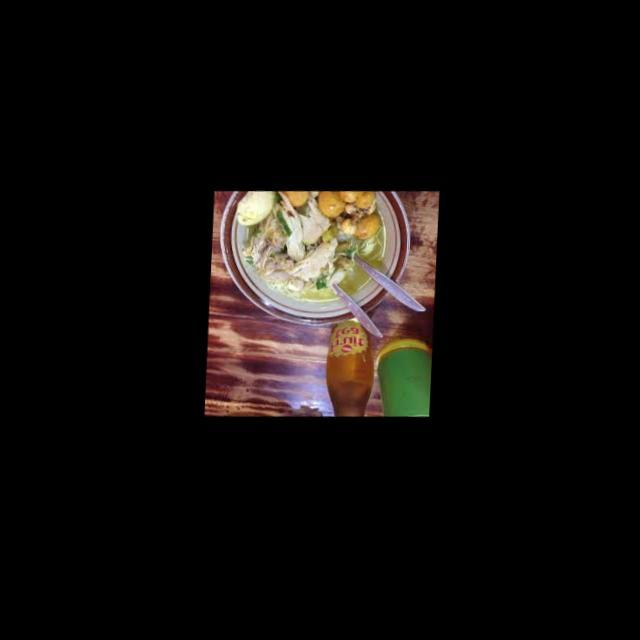Soto: (228, 182, 403, 300)
